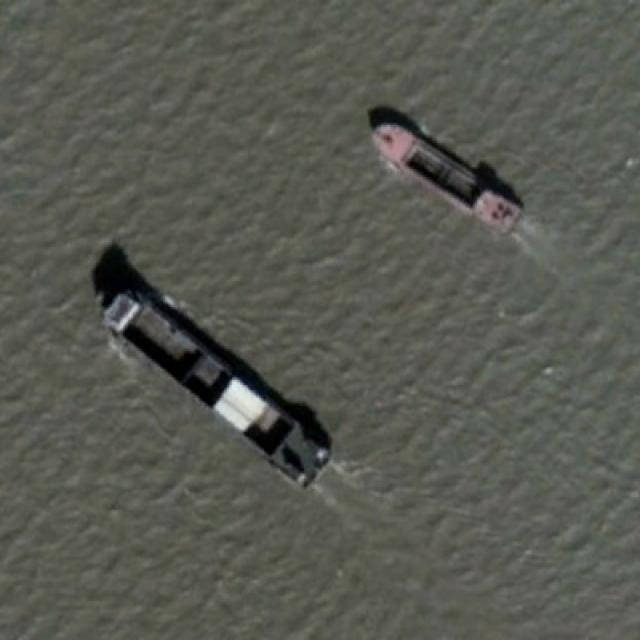boat: (91, 276, 333, 487), (365, 107, 523, 234)
